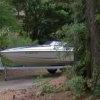Boat: (1, 38, 78, 71)
